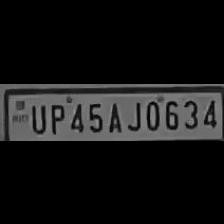0: (142, 97, 160, 130)
3: (180, 96, 198, 130)
4: (198, 96, 218, 128), (65, 99, 84, 131)
5: (85, 98, 105, 132)
6: (160, 96, 180, 130)
A: (104, 97, 124, 132)
J: (124, 97, 142, 131)
P: (46, 99, 64, 133)
U: (28, 100, 46, 132)
